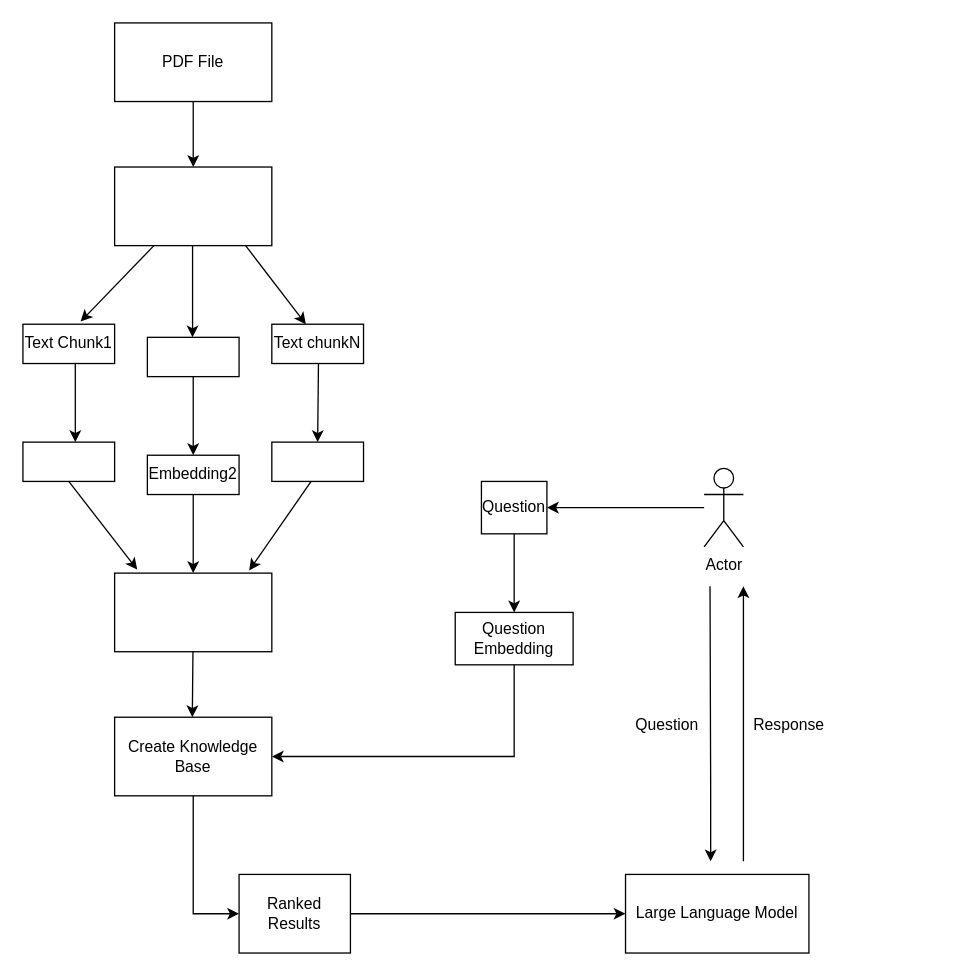
The diagram is 963 pixels wide and 976 high, and some of its shapes have lost their labels. The centre of each missing label's shape, as x and y in pixels:
Build Semantic Index: point (192, 612)
Embedding1: point (68, 461)
EmbeddingN: point (317, 461)
Extract Data: point (192, 206)
Text Chunk2: point (192, 356)
